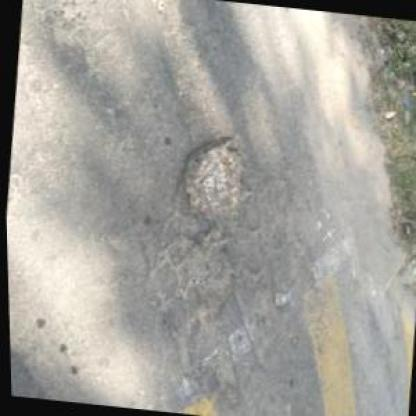pothole: (169, 129, 254, 232), (172, 226, 238, 322)
